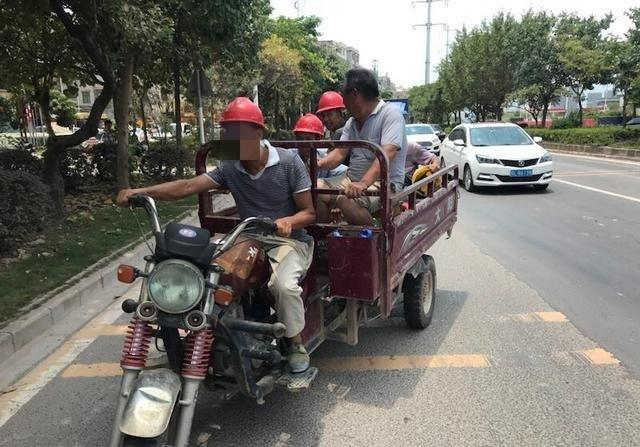driver: (118, 89, 291, 369)
overloading: (110, 77, 462, 447)
passenger: (338, 71, 404, 227), (268, 113, 325, 199), (405, 133, 445, 205), (317, 92, 344, 135)
